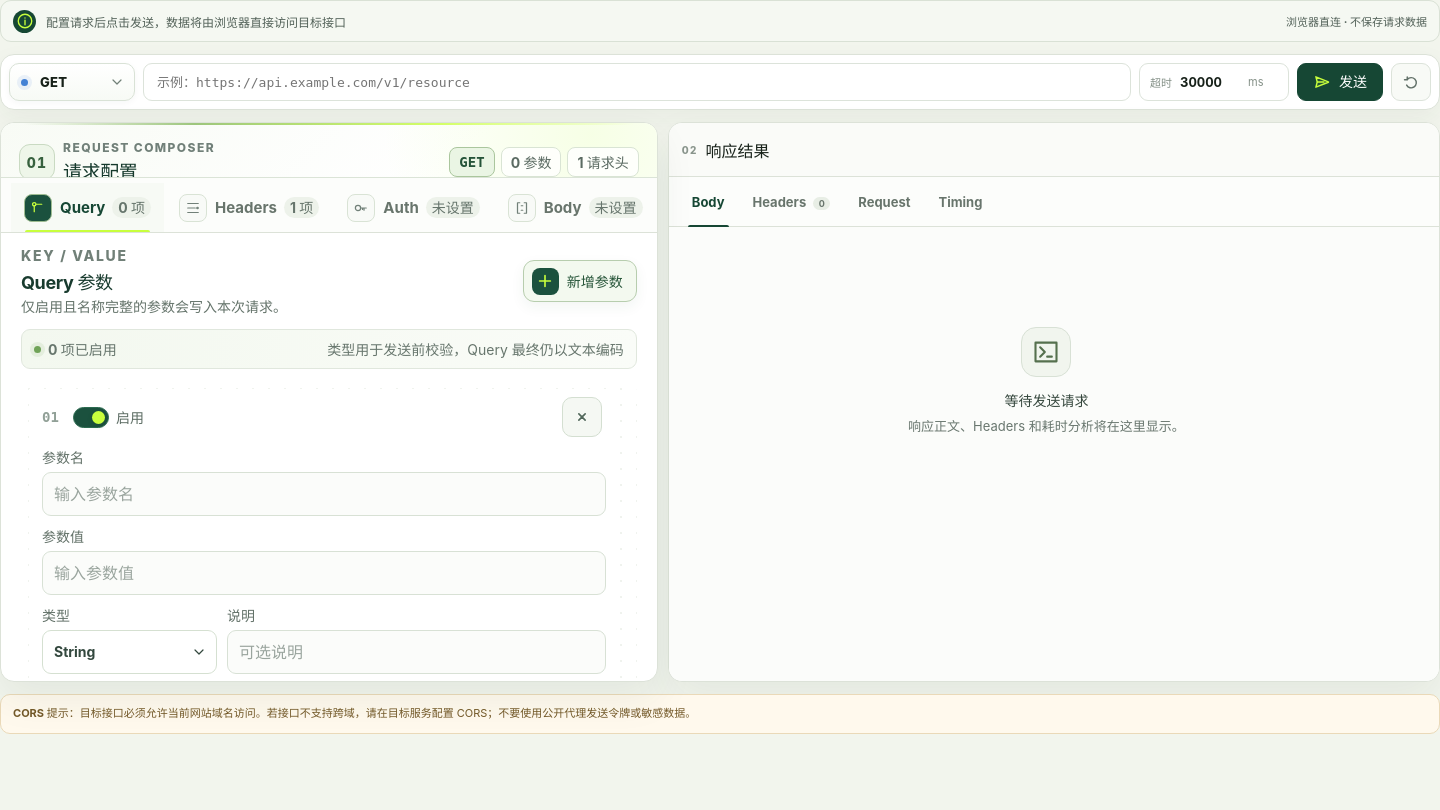
ApiTestTool › selects a query parameter type and sends its normalized value
This screenshot has width=1440, height=810.
Type "https://api.example.com/search" into the field named "接口地址" at x=637, y=82, box [143,63,1131,101]
Type "enabled" into the field named "Query 参数名称" at x=324, y=494, box [42,472,606,516]
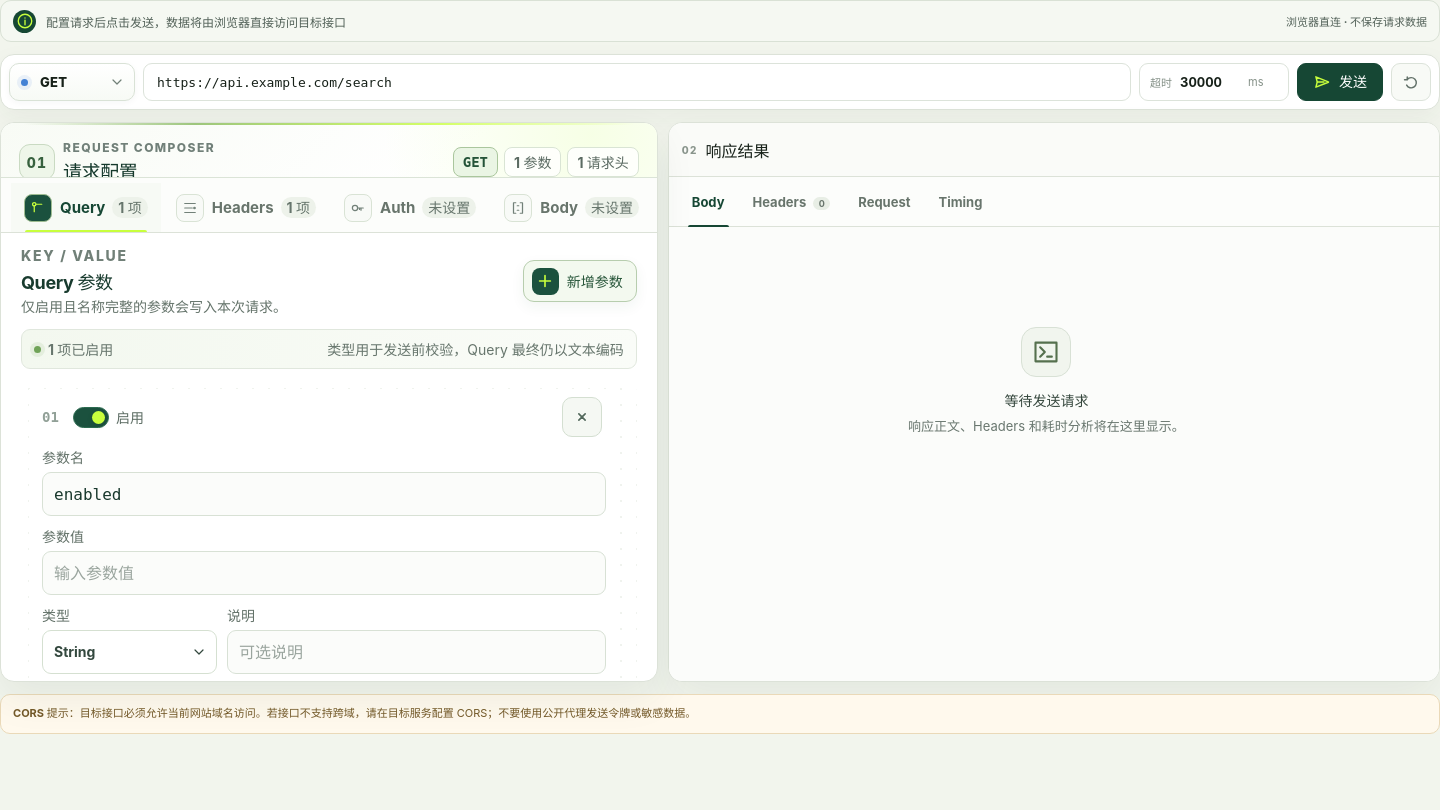
Type "TRUE" into the field named "Query 参数值" at x=324, y=573, box [42,551,606,595]
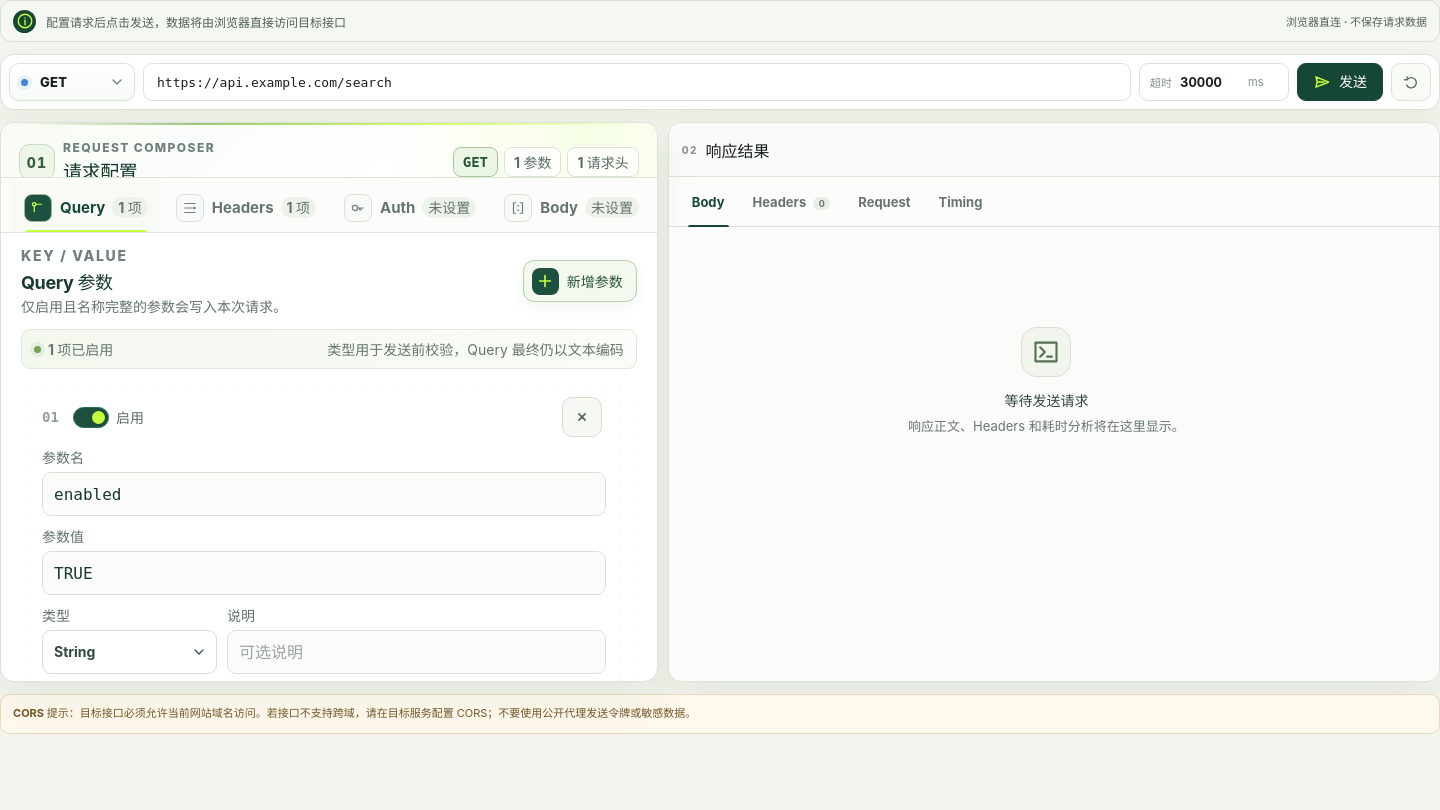
Click the button named "Query 参数类型 1" at x=129, y=652, box [42,630,217,674]
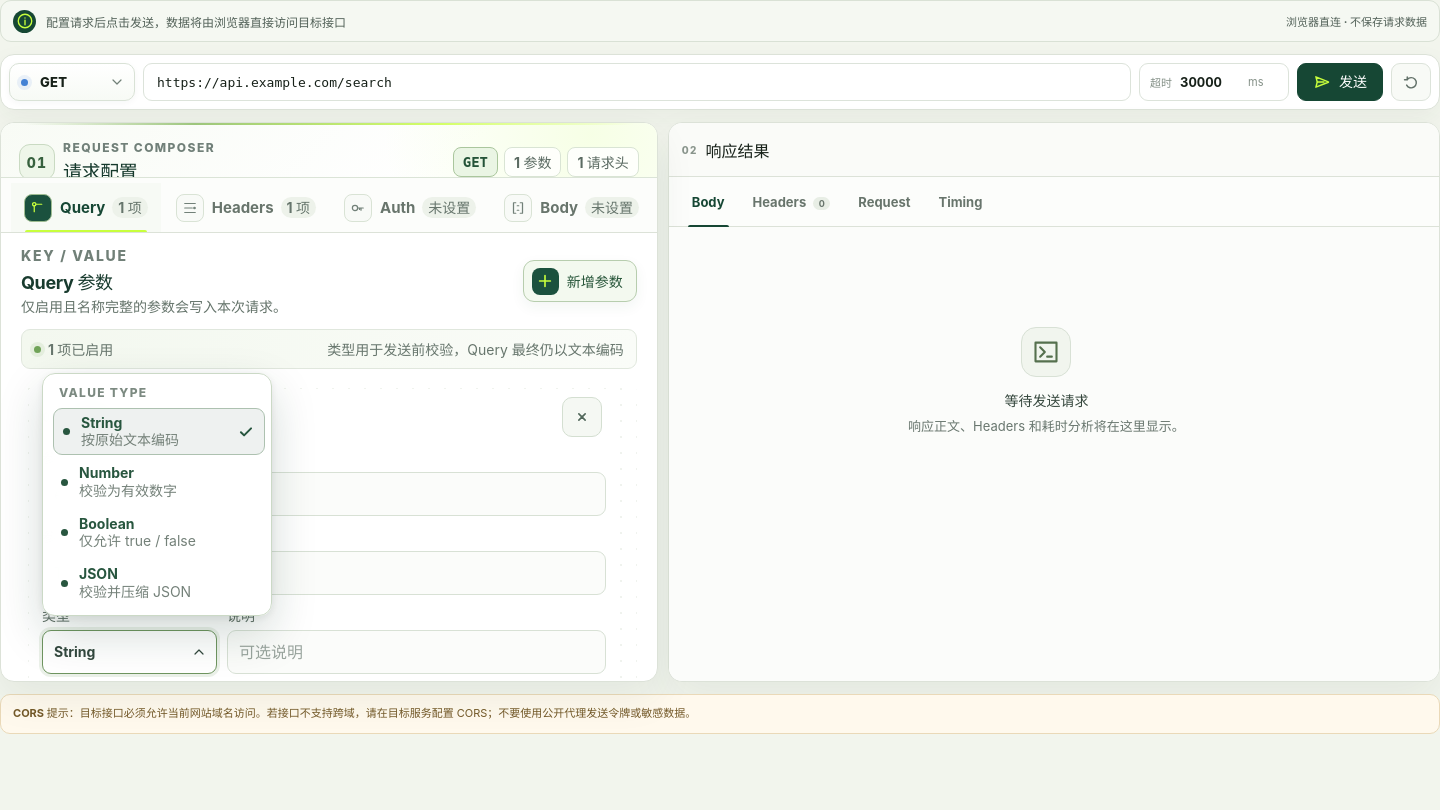
Check: the button named "Query 参数类型 1" is expanded, box [42,630,217,674]
Click the option "Boolean 仅允许 true / false" at x=157, y=533, box [51,509,263,556]
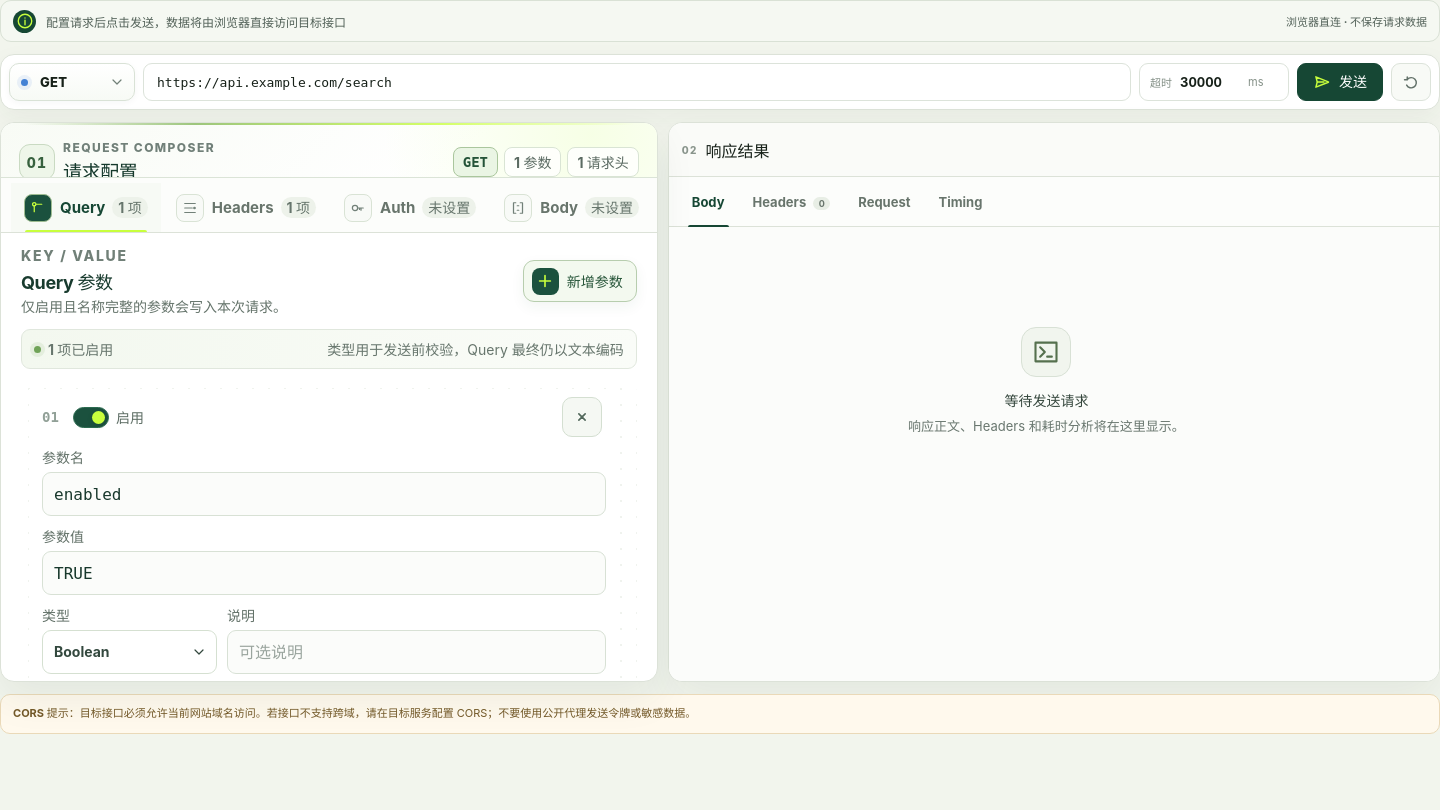
Check: the button named "Query 参数类型 1" is collapsed, box [42,630,217,674]
Type "是否启用" into the field named "Query 参数说明 1" at x=416, y=652, box [227,630,606,674]
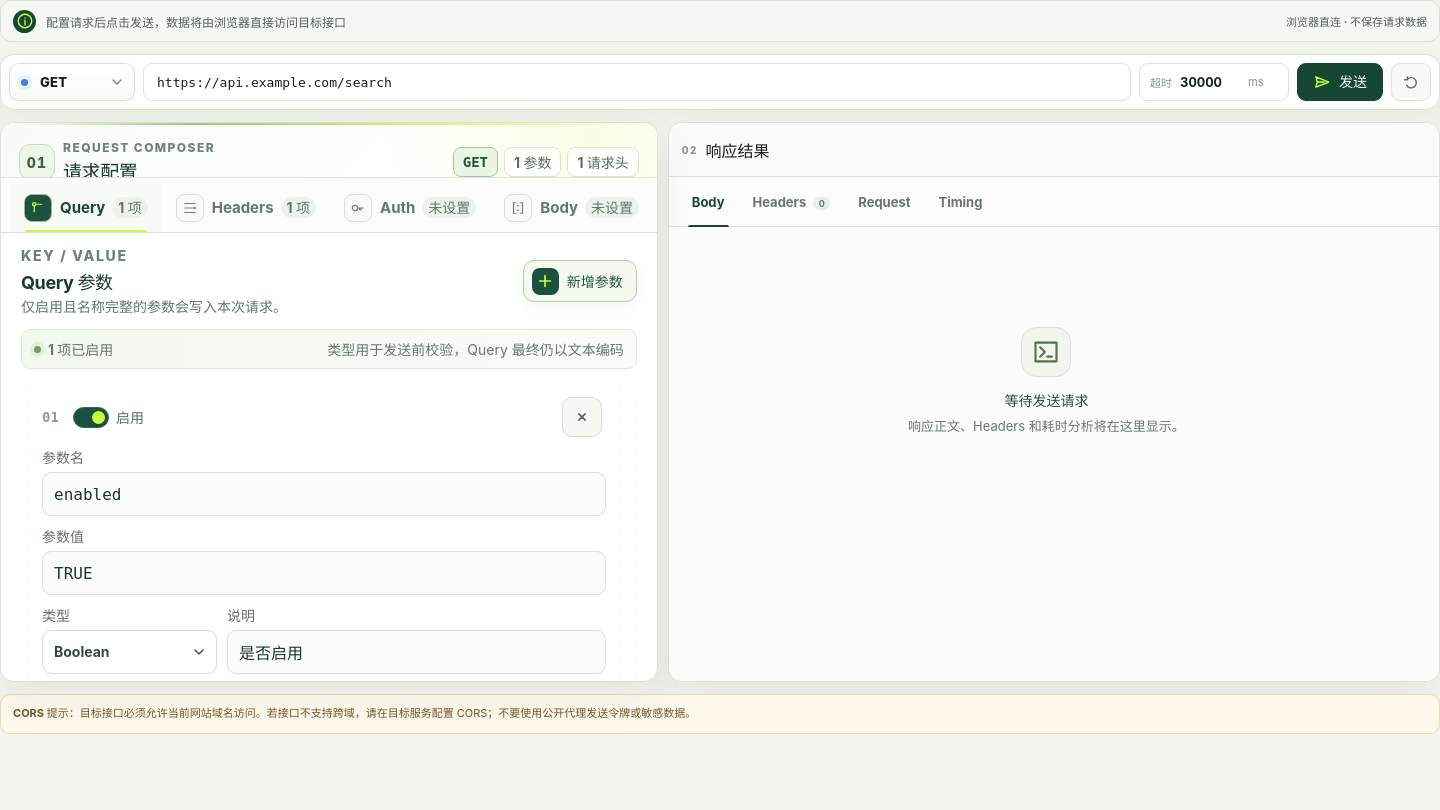
Click the button "发送" at x=1340, y=82, box [1297,63,1383,101]
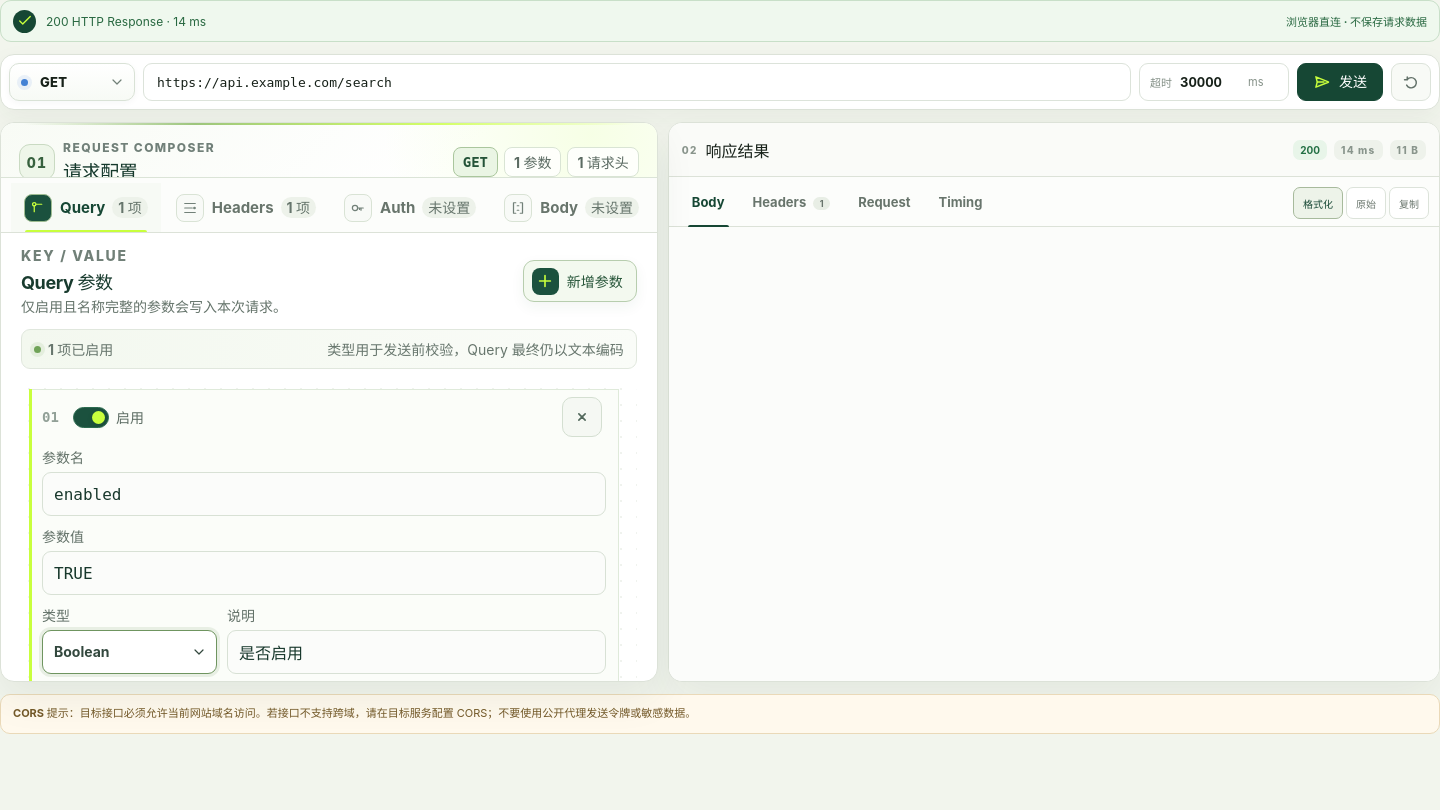
Check: the text "200" is shown, box [1293,140,1327,160]
